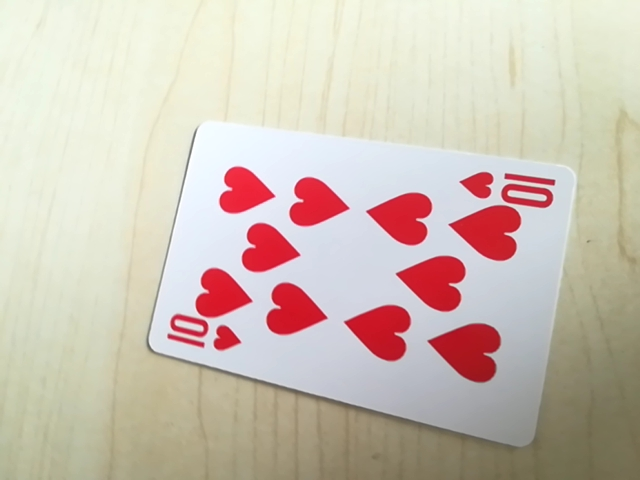hx 10: (456, 165, 558, 208), (163, 315, 244, 357)
